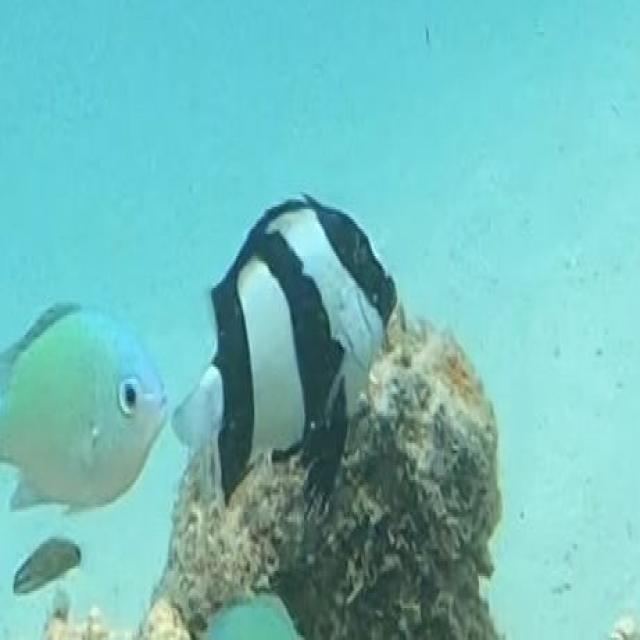ThreeStripedDamselfish: (180, 194, 398, 507)
